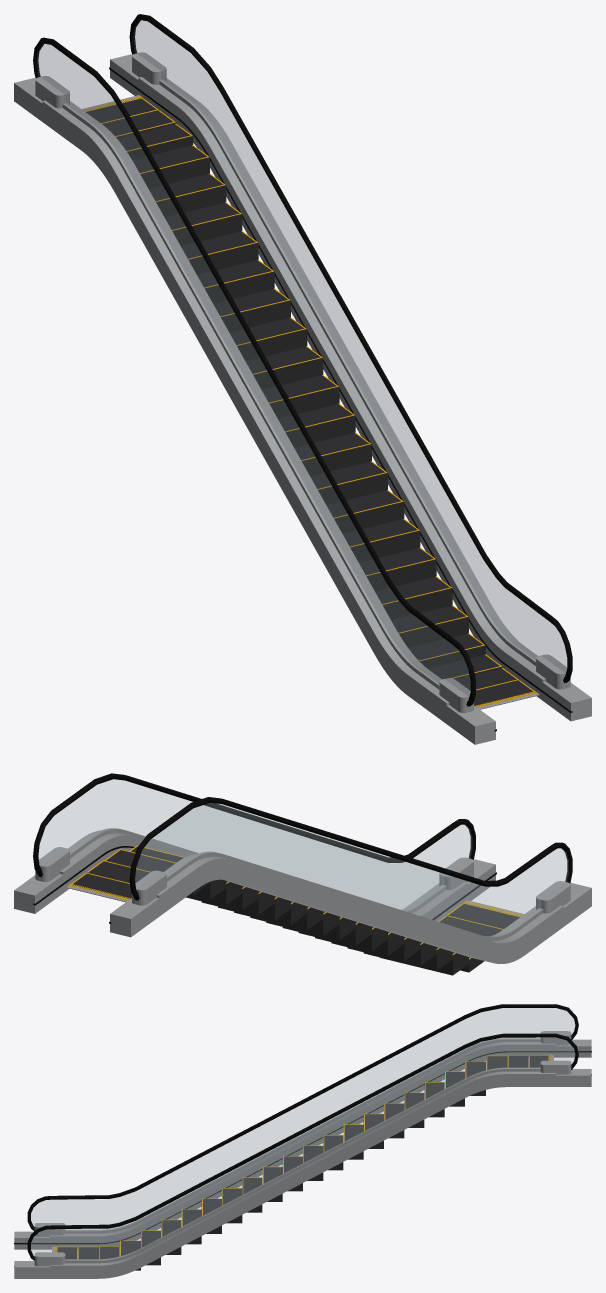
File: gteki_escalator_dress_s1000_r4000_glass_treads.glb
3 renders of one model, top to bottom at view 1: azimuth 30°, elevation 25°; view 2: azimuth 150°, elevation 25°; view 3: azimuth 270°, elevation 25°, orthographic. The views are drawn at different scales.
Parts seen in each view (by area): view 1: VIS_body; view 2: VIS_body; view 3: VIS_body.
Boxes of the visible parts, x1=… form: VIS_body: x1=14, y1=14, x2=591, y2=744; VIS_body: x1=14, y1=773, x2=591, y2=975; VIS_body: x1=14, y1=1004, x2=591, y2=1278.
Size of the model in its own units: 1.6 by 5.04 by 10.93.
2 materials, 2 textured.
